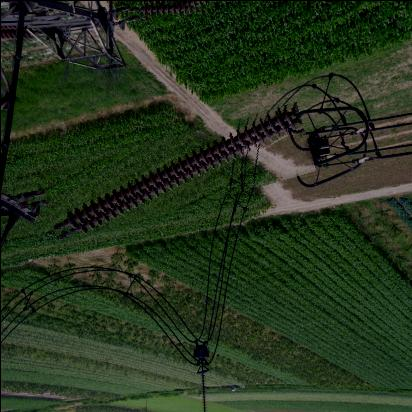insulator: (41, 120, 313, 227), (129, 1, 208, 29)
